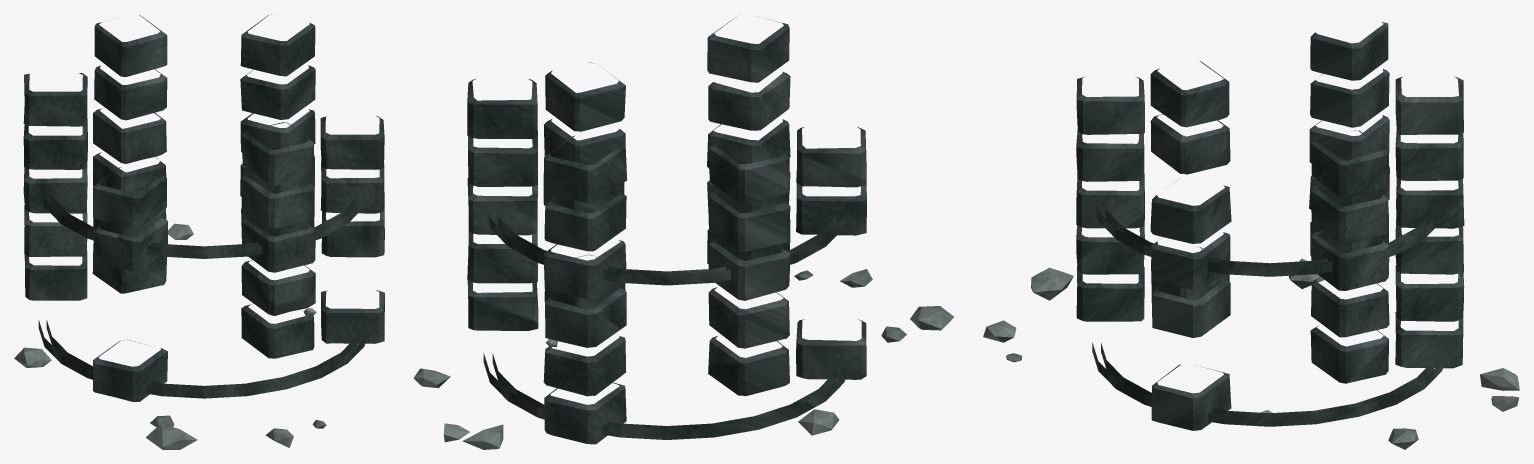
The model's file is 0417_ruined_tower_17.glb.
3 views of the same model, side by side, from view 1: azimuth 30°, elevation 25°; view 2: azimuth 150°, elevation 25°; view 3: azimuth 270°, elevation 25° (orthographic). The views are drawn at different scales.
Parts seen in each view (by area): view 1: stone_dark, stone; view 2: stone_dark, stone; view 3: stone_dark, stone.
Boxes of the visible parts, x1,y1,x2,y2 form: stone_dark: (23, 14, 384, 401); stone: (14, 223, 326, 449); stone_dark: (467, 15, 866, 444); stone: (413, 269, 953, 449); stone_dark: (1076, 22, 1464, 430); stone: (983, 258, 1519, 449).
Size of the model in its own units: 3.4 by 2.52 by 4.38.
2 materials, 2 textured.
